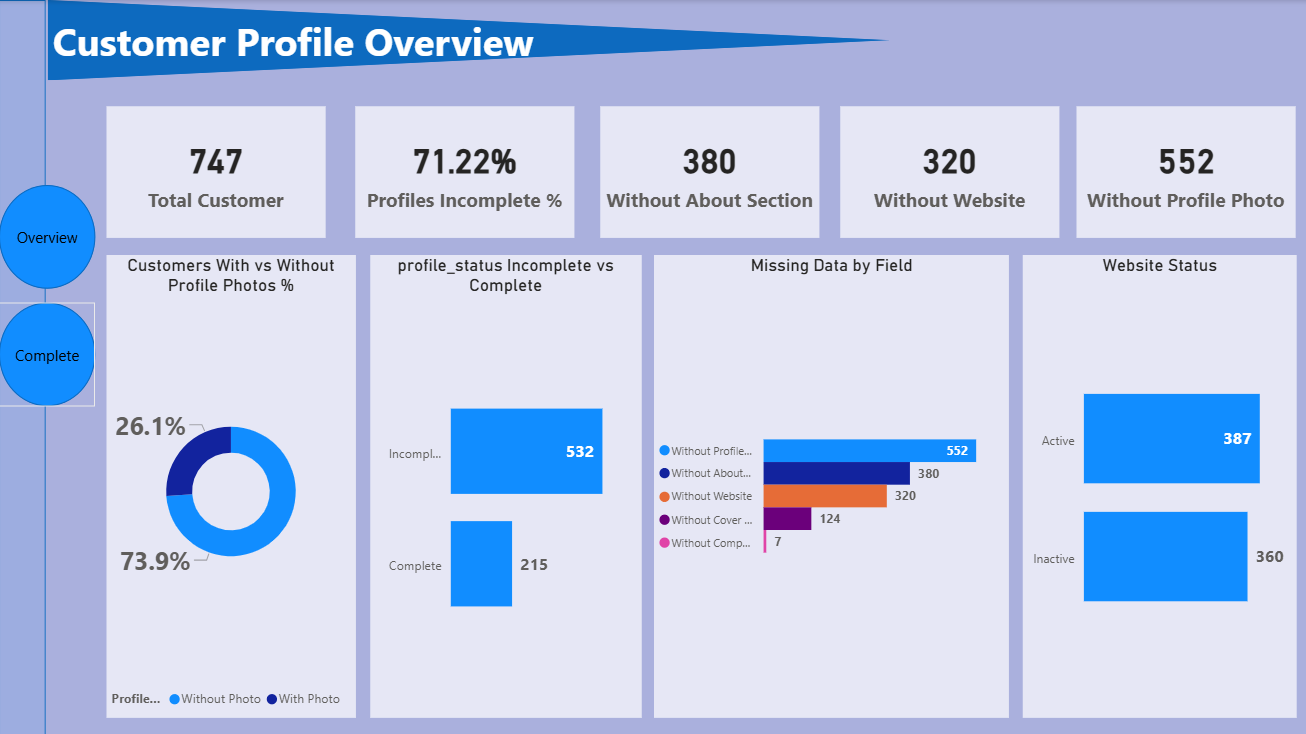

The page's visual inventory and layout, read from the dashboard file:
{"tool":"powerbi","page":{"name":"Overview","canvas":[1280,720],"ordinal":0},"visuals":[{"type":"card","fields":{"Values":["user details.Total Customer"]},"box":[105.7,104.3,214.3,128.6],"z":0},{"type":"card","fields":{"Values":["user details.Users without Profile Photo"]},"box":[1054.3,104.3,214.3,128.6],"z":1000},{"type":"card","fields":{"Values":["user details.Users Without Website"]},"box":[822.9,104.3,214.3,128.6],"z":2000},{"type":"card","fields":{"Values":["user details.User without About Section"]},"box":[588.6,104.3,214.3,128.6],"z":3000},{"type":"shape","box":[47.1,0,822.9,78.6],"z":4000},{"type":"textbox","box":[47.1,10,517.1,78.6],"z":5000},{"type":"shape","box":[0,0,45.7,720],"z":6000},{"type":"card","fields":{"Values":["user details.% of Profiles with Missing Data"]},"box":[348.6,104.3,214.3,128.6],"z":7000},{"type":"donutChart","title":"Customers With vs Without Profile Photos %","fields":{"Category":["user details.Profile Photo Status"],"Y":["CountNonNull(user details.sr.no)"]},"box":[105.2,250,243.9,452.7],"z":8000},{"type":"barChart","title":"profile_status Incomplete vs Complete","fields":{"Category":["user details.profile_status"],"Y":["CountNonNull(user details.sr.no)"]},"box":[362.8,250,265.2,452.7],"z":9000},{"type":"clusteredBarChart","title":"Missing Data by Field","fields":{"Y":["user details.Without Profile Photo","user details.Without About Section","user details.Without Website","user details.Without Cover Picture","user details.Without Company Name"]},"box":[640.2,250,347.5,452.7],"z":10000},{"type":"shape","box":[0,181.4,94.3,101.4],"z":11000},{"type":"shape","box":[0,295.7,94.3,101.4],"z":12000},{"type":"barChart","title":"Website Status","fields":{"Category":["user details.Website Status"],"Y":["CountNonNull(user details.sr.no)"]},"box":[1001.4,250,268.3,452.7],"z":13000}]}

Visuals, with their boxes in screenshot pixels (x1, y1, x2, y2), scaled from the page's 1280x720 canvas onto the 1306x734 screenshot:
card - user details.Total Customer: (left=108, top=106, right=326, bottom=237)
card - user details.Users without Profile Photo: (left=1076, top=106, right=1294, bottom=237)
card - user details.Users Without Website: (left=840, top=106, right=1058, bottom=237)
card - user details.User without About Section: (left=601, top=106, right=819, bottom=237)
shape: (left=48, top=0, right=888, bottom=80)
textbox: (left=48, top=10, right=576, bottom=90)
shape: (left=0, top=0, right=47, bottom=733)
card - user details.% of Profiles with Missing Data: (left=356, top=106, right=574, bottom=237)
"Customers With vs Without Profile Photos %" donutChart: (left=107, top=255, right=356, bottom=716)
"profile_status Incomplete vs Complete" barChart: (left=370, top=255, right=641, bottom=716)
"Missing Data by Field" clusteredBarChart: (left=653, top=255, right=1008, bottom=716)
shape: (left=0, top=185, right=96, bottom=288)
shape: (left=0, top=301, right=96, bottom=405)
"Website Status" barChart: (left=1022, top=255, right=1295, bottom=716)
